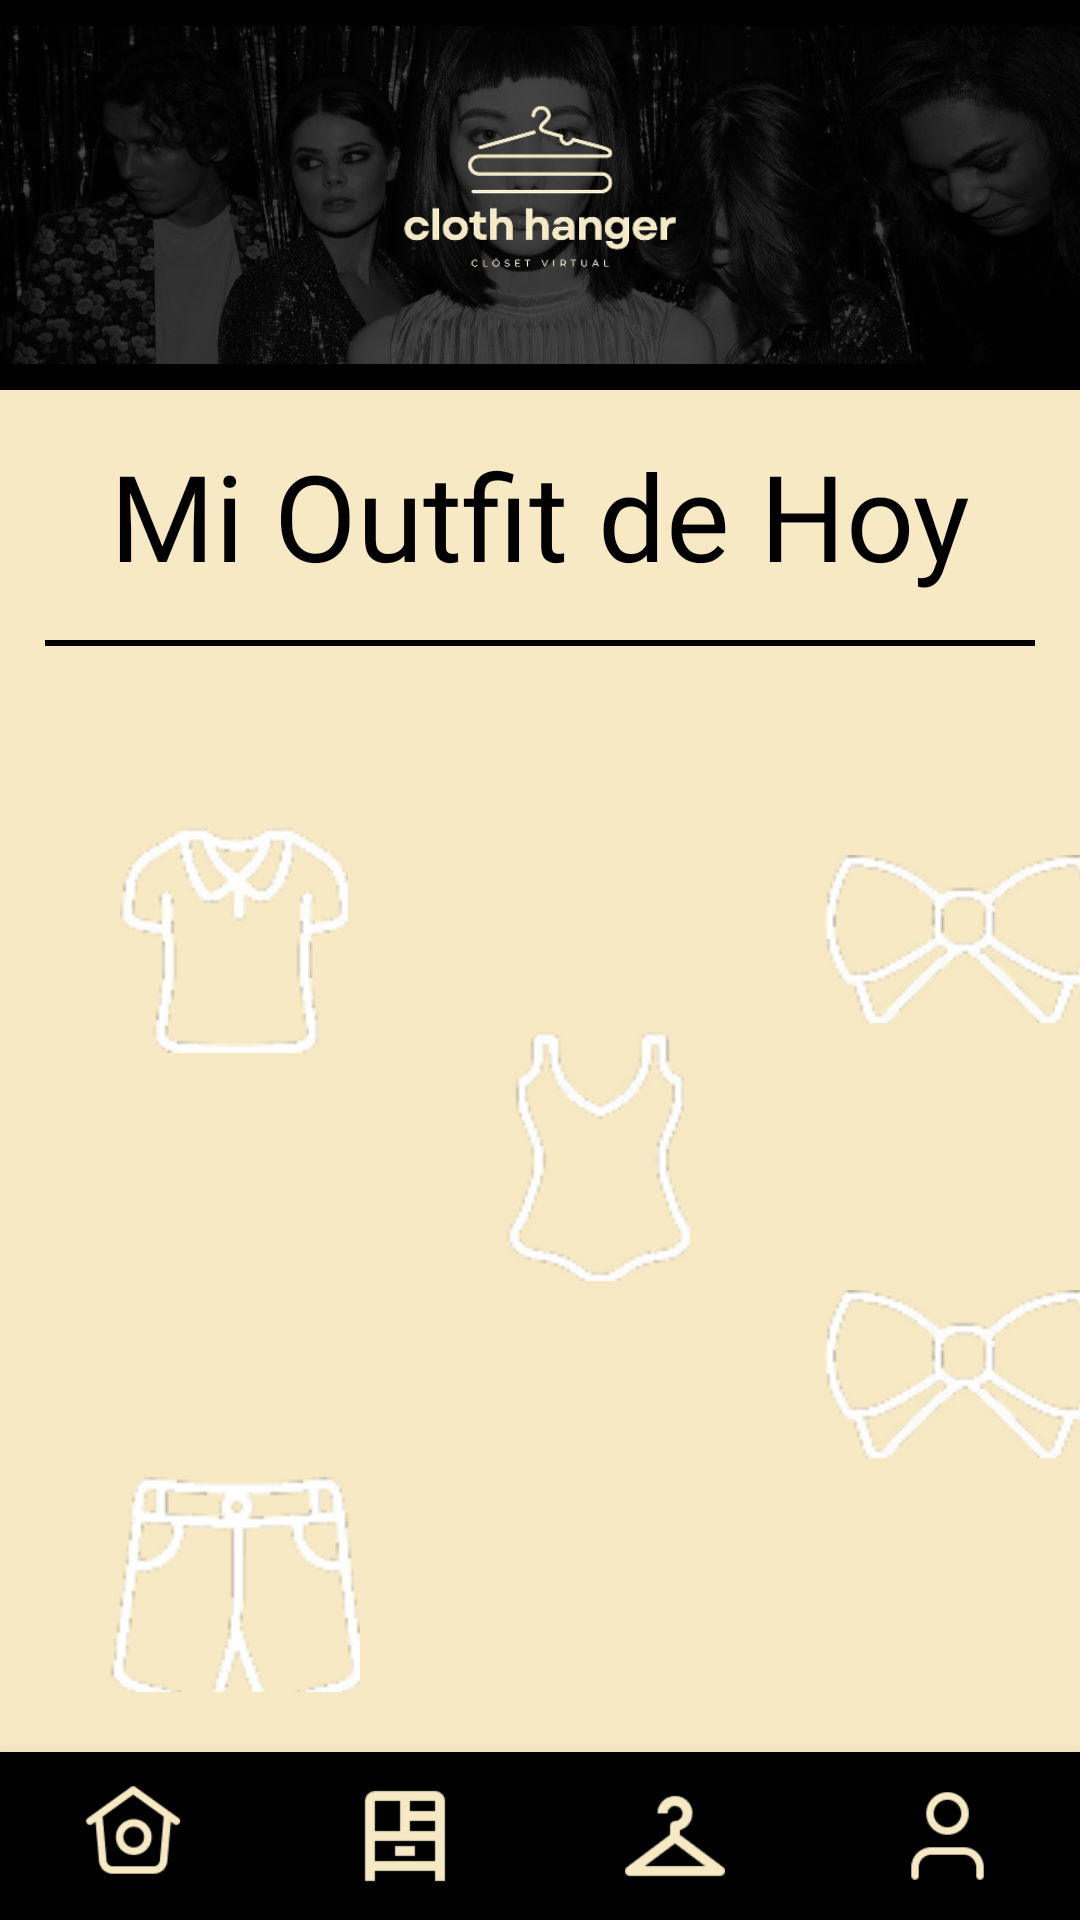

Screen size 1080px x 1920px. Icon name, then its box in pixels as (x1, y1, x2, y2):
bodysuit blanco: (510, 1035, 690, 1281)
tops blanco: (123, 830, 348, 1053)
